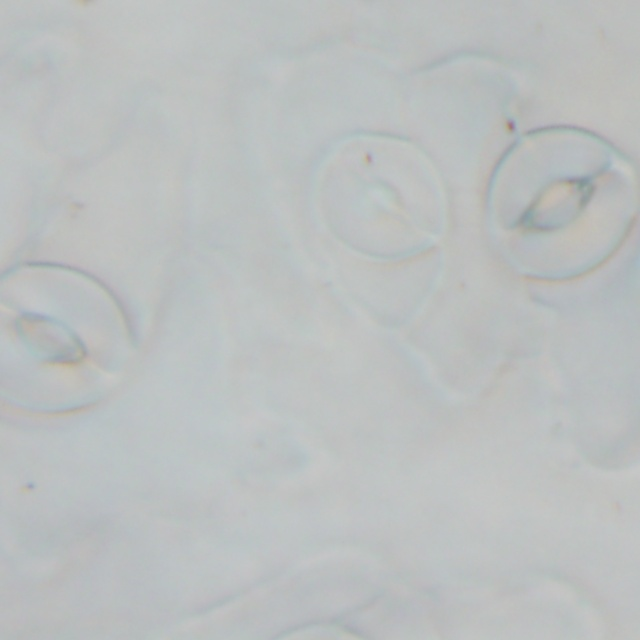center: (522, 178, 592, 231), (13, 312, 86, 362), (361, 176, 408, 219), (300, 630, 338, 633)
stomata-huw1: (487, 127, 638, 280), (1, 264, 132, 413), (314, 134, 447, 261), (276, 624, 362, 639)
